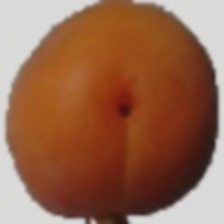apricot: (13, 43, 168, 204)
